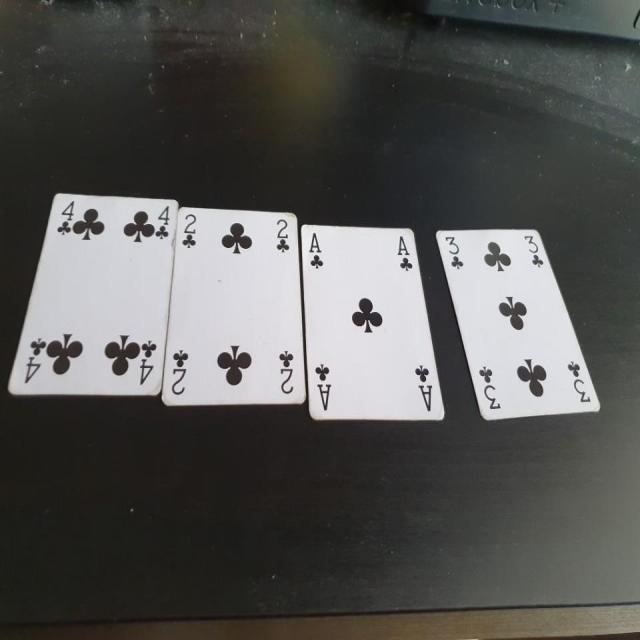2 Trefoils: (162, 202, 308, 404)
3 Trefoils: (437, 226, 604, 421)
4 Trefoils: (8, 192, 179, 397)
A Trefoils: (299, 223, 446, 424)
